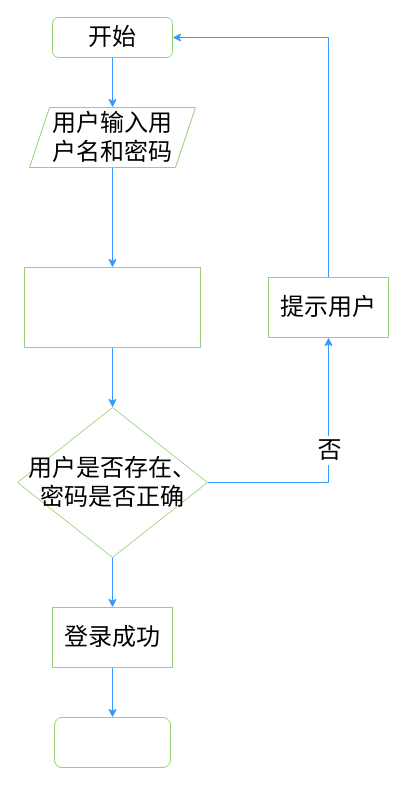
Image size: 406x785. Some labels were removed from this diagram. Here are the shapes that lost their labels. From the top down, the centre of each, then its label:
the point at 112,307: 在user表中通过用户名查询用户
the point at 112,742: 结束
